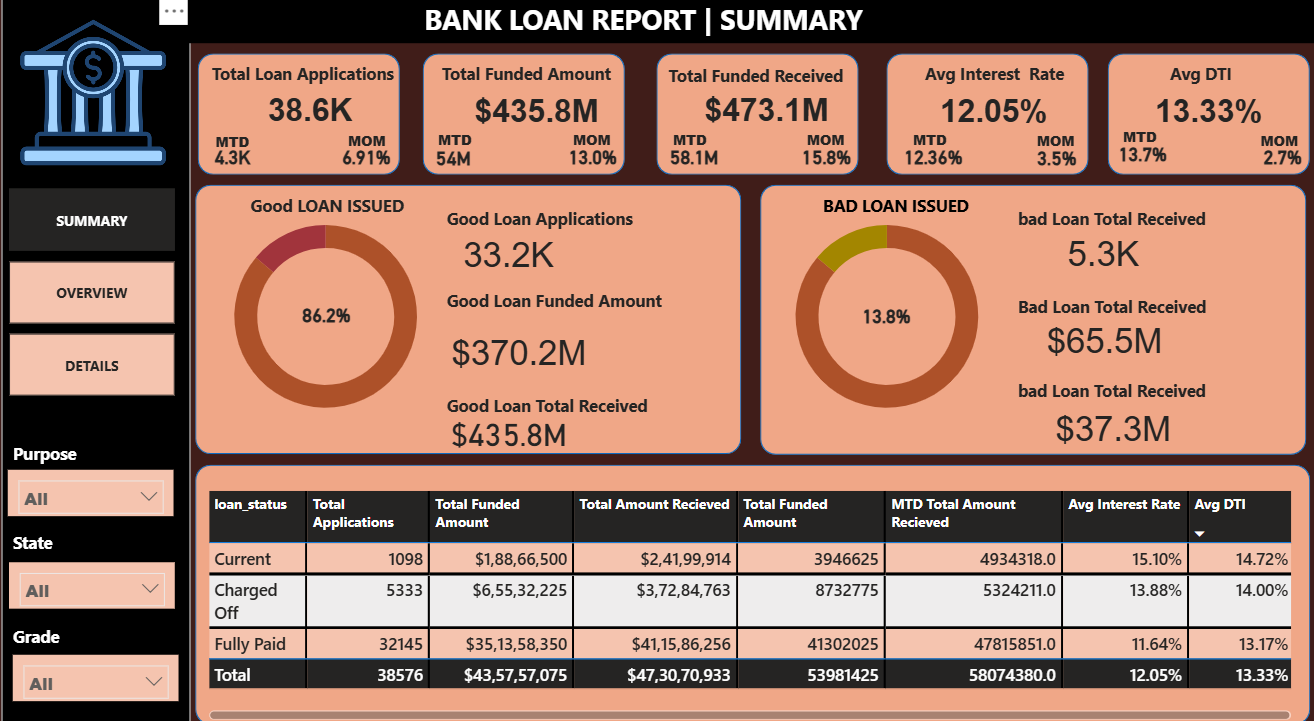

The page's visual inventory and layout, read from the dashboard file:
{"tool":"powerbi","page":{"name":"SUMMARY","canvas":[1280,720],"ordinal":0},"visuals":[{"type":"shape","box":[2.4,3.6,182.2,716.6],"z":0},{"type":"shape","box":[182.2,0,1097.9,50.7],"z":1000},{"type":"shape","box":[856.2,60,195,117],"z":1000,"group":"g5"},{"type":"shape","box":[1070.3,60,195,117],"z":2000,"group":"g2"},{"type":"shape","box":[189.4,457.2,1076.1,250.9],"z":2000},{"type":"shape","box":[633.9,60.3,195,117],"z":3000,"group":"g4"},{"type":"shape","box":[734.7,187,527,260.6],"z":3000},{"type":"shape","box":[408.9,60,195,117],"z":4000,"group":"g3"},{"type":"shape","box":[189.4,187,527,260],"z":4000},{"type":"shape","box":[192.1,60,195,117],"z":5000,"group":"g1"},{"type":"donutChart","fields":{"Y":["financial_loan (1) (1).Total Applications"],"Category":["financial_loan (1) (1).god_bad"]},"box":[190.6,199.1,249.7,230.4],"z":5000},{"type":"card","fields":{"Values":["financial_loan (1) (1).Good_loan%"]},"box":[281.1,295.6,70,36.2],"z":6000},{"type":"card","fields":{"Values":["financial_loan (1) (1).bad%"]},"box":[819.2,290.8,74.8,47.1],"z":7000},{"type":"card","fields":{"Values":["financial_loan (1) (1).Good_count"]},"box":[429.5,229.2,124.9,49.4],"z":8000},{"type":"card","fields":{"Values":["financial_loan (1) (1).Total Funded Amount"]},"box":[429.5,401.7,125.5,49.5],"z":9000},{"type":"card","fields":{"Values":["financial_loan (1) (1).TFAG"]},"box":[430.7,313.7,142.4,70],"z":10000},{"type":"textbox","box":[426.8,204.5,196.2,38.4],"z":11000},{"type":"textbox","box":[426.8,282.7,220.9,41.2],"z":12000},{"type":"textbox","box":[426.8,384.2,212.7,38.4],"z":13000},{"type":"card","title":"Total Loan Applications","fields":{"Values":["financial_loan (1) (1).Total Applications"]},"box":[230.5,96.5,140,35.7],"z":14000,"group":"g1"},{"type":"card","fields":{"Values":["financial_loan (1) (1).BAD loan"]},"box":[1012.2,396.9,126.7,49.5],"z":14000},{"type":"card","fields":{"Values":["financial_loan (1) (1).Total Funded Amount"]},"box":[448.8,96.8,140,35],"z":15000,"group":"g3"},{"type":"card","fields":{"Values":["financial_loan (1) (1).bad_loan applications"]},"box":[1005.8,233.3,119.4,39.8],"z":15000},{"type":"card","fields":{"Values":["financial_loan (1) (1).SUM"]},"box":[670.3,96.8,140,35],"z":16000,"group":"g4"},{"type":"card","fields":{"Values":["financial_loan (1) (1).bad_loan_rec"]},"box":[1005,313.7,124.3,45.8],"z":16000},{"type":"textbox","box":[978.4,369.1,212.7,38.4],"z":17000},{"type":"card","fields":{"Values":["financial_loan (1) (1).avg_int"]},"box":[889.8,96.8,140,35],"z":18000,"group":"g5"},{"type":"textbox","box":[978.4,288.2,212.7,38.4],"z":18000},{"type":"card","fields":{"Values":["financial_loan (1) (1).avg_dti"]},"box":[1098.6,96.8,140,35],"z":19000,"group":"g2"},{"type":"textbox","box":[978.4,204.5,212.7,38.4],"z":19000},{"type":"textbox","box":[405.4,3.6,454.8,47.1],"z":20000},{"type":"textbox","box":[200.3,63.9,199.1,32.6],"z":20000,"group":"g1"},{"type":"group","id":"g1","title":"Group 1","box":[192.1,60,207.2,117],"z":21000},{"type":"group","id":"g2","title":"Group 2","box":[1070.3,60,199,117],"z":22000},{"type":"group","id":"g3","title":"Group 5","box":[408.9,60,644.3,117.3],"z":23000},{"type":"donutChart","fields":{"Category":["financial_loan (1) (1).god_bad"],"Y":["financial_loan (1) (1).Total Applications"]},"box":[732.3,199.1,249.7,230.4],"z":24000},{"type":"textbox","box":[422.2,63.9,194.2,32.6],"z":25000,"group":"g3"},{"type":"tableEx","fields":{"Values":["financial_loan (1) (1).loan_status","financial_loan (1) (1).Total Applications","financial_loan (1) (1).Total Funded Amount","financial_loan (1) (1).SUM","financial_loan (1) (1).TFA","financial_loan (1) (1).TTL","financial_loan (1) (1).avg_int","financial_loan (1) (1).avg_dti"]},"box":[196.6,477.8,1055.6,230.4],"z":25000},{"type":"image","box":[13.3,22.9,155.6,150.8],"z":26000},{"type":"textbox","box":[634.5,65.1,189.4,42.2],"z":26000,"group":"g4"},{"type":"textbox","box":[866.2,63.9,187,32.6],"z":27000,"group":"g5"},{"type":"slicer","fields":{"Values":["financial_loan (1) (1).address_state"]},"box":[9.7,551.1,160,45],"z":27000},{"type":"textbox","box":[1099,63.9,121.9,32.6],"z":28000,"group":"g2"},{"type":"textbox","box":[8.4,516.4,71.2,35],"z":28000},{"type":"slicer","fields":{"Values":["financial_loan (1) (1).grade"]},"box":[13.3,640.6,160,45],"z":29000},{"type":"textbox","box":[8.4,606.8,74.8,33.8],"z":30000},{"type":"slicer","fields":{"Values":["financial_loan (1) (1).purpose"]},"box":[8.2,461.6,160,45],"z":31000},{"type":"textbox","box":[8.4,430.7,95.3,35],"z":32000},{"type":"textbox","box":[218.4,190.6,196.6,38.6],"z":33000},{"type":"textbox","box":[767.3,190.6,196.6,38.6],"z":34000},{"type":"pageNavigator","box":[10.1,190.6,160,200],"z":35000},{"type":"card","fields":{"Values":["financial_loan (1) (1).currant_mtd."]},"box":[196.2,145.4,60.4,30.2],"z":41000,"group":"g1"},{"type":"card","fields":{"Values":["financial_loan (1) (1).mom"]},"box":[325.2,145.4,60.4,30.2],"z":42000,"group":"g1"},{"type":"textbox","box":[204.4,131.7,49.4,30.2],"z":43000,"group":"g1"},{"type":"textbox","box":[332.1,130.3,49.4,30.2],"z":44000,"group":"g1"},{"type":"card","fields":{"Values":["financial_loan (1) (1).TFA"]},"box":[408.9,146.8,59,26.1],"z":45000,"group":"g3"},{"type":"card","fields":{"Values":["financial_loan (1) (1).mom_3"]},"box":[543.4,145.4,60.4,30.2],"z":46000,"group":"g3"},{"type":"textbox","box":[418.5,128.9,49.4,30.2],"z":47000,"group":"g3"},{"type":"textbox","box":[548.9,128.9,49.4,30.2],"z":48000,"group":"g3"},{"type":"card","fields":{"Values":["financial_loan (1) (1).TTL"]},"box":[639.4,145.4,60.4,30.2],"z":49000,"group":"g4"},{"type":"card","fields":{"Values":["financial_loan (1) (1).MOM_4"]},"box":[768.4,145.4,60.4,30.2],"z":50000,"group":"g4"},{"type":"textbox","box":[644.9,128.9,49.4,30.2],"z":51000,"group":"g4"},{"type":"textbox","box":[773.9,128.9,49.4,30.2],"z":52000,"group":"g4"},{"type":"card","fields":{"Values":["financial_loan (1) (1).avd_mtd"]},"box":[867.2,145.4,68.6,30.2],"z":53000,"group":"g5"},{"type":"card","fields":{"Values":["financial_loan (1) (1).avd_mom"]},"box":[990.7,146.8,59,30.2],"z":54000,"group":"g5"},{"type":"card","fields":{"Values":["financial_loan (1) (1).dti_mtd"]},"box":[1074.4,141.3,60.4,34.3],"z":55000,"group":"g2"},{"type":"card","fields":{"Values":["financial_loan (1) (1).dti_mom"]},"box":[1208.9,145.4,60.4,30.2],"z":56000,"group":"g2"},{"type":"textbox","box":[996.2,130.3,49.4,30.2],"z":57000,"group":"g5"},{"type":"textbox","box":[876.8,128.9,49.4,30.2],"z":58000,"group":"g5"},{"type":"textbox","box":[1213,130.3,49.4,30.2],"z":59000,"group":"g2"},{"type":"textbox","box":[1079.9,126.2,49.4,30.2],"z":60000,"group":"g2"},{"type":"group","id":"g4","title":"Group 3","box":[633.9,60.3,195,117],"z":62003,"group":"g5"},{"type":"group","id":"g5","title":"Group 4","box":[633.9,60,419.3,117.3],"z":62004,"group":"g3"}]}

Visuals, with their boxes on the page's 1280x720 design canvas (x1, y1, x2, y2). These are canvas units, not pixel positions in the 1314x721 screenshot, which may show the page scaled, cropped or inside an application window:
shape: pyautogui.locateOnScreen(2, 4, 185, 720)
shape: pyautogui.locateOnScreen(182, 0, 1280, 51)
shape: pyautogui.locateOnScreen(856, 60, 1051, 177)
shape: pyautogui.locateOnScreen(1070, 60, 1265, 177)
shape: pyautogui.locateOnScreen(189, 457, 1266, 708)
shape: pyautogui.locateOnScreen(634, 60, 829, 177)
shape: pyautogui.locateOnScreen(735, 187, 1262, 448)
shape: pyautogui.locateOnScreen(409, 60, 604, 177)
shape: pyautogui.locateOnScreen(189, 187, 716, 447)
shape: pyautogui.locateOnScreen(192, 60, 387, 177)
donutChart - financial_loan (1) (1).Total Applications x financial_loan (1) (1).god_bad: pyautogui.locateOnScreen(191, 199, 440, 430)
card - financial_loan (1) (1).Good_loan%: pyautogui.locateOnScreen(281, 296, 351, 332)
card - financial_loan (1) (1).bad%: pyautogui.locateOnScreen(819, 291, 894, 338)
card - financial_loan (1) (1).Good_count: pyautogui.locateOnScreen(430, 229, 554, 279)
card - financial_loan (1) (1).Total Funded Amount: pyautogui.locateOnScreen(430, 402, 555, 451)
card - financial_loan (1) (1).TFAG: pyautogui.locateOnScreen(431, 314, 573, 384)
textbox: pyautogui.locateOnScreen(427, 204, 623, 243)
textbox: pyautogui.locateOnScreen(427, 283, 648, 324)
textbox: pyautogui.locateOnScreen(427, 384, 640, 423)
"Total Loan Applications" card: pyautogui.locateOnScreen(230, 96, 370, 132)
card - financial_loan (1) (1).BAD loan: pyautogui.locateOnScreen(1012, 397, 1139, 446)
card - financial_loan (1) (1).Total Funded Amount: pyautogui.locateOnScreen(449, 97, 589, 132)
card - financial_loan (1) (1).bad_loan applications: pyautogui.locateOnScreen(1006, 233, 1125, 273)
card - financial_loan (1) (1).SUM: pyautogui.locateOnScreen(670, 97, 810, 132)
card - financial_loan (1) (1).bad_loan_rec: pyautogui.locateOnScreen(1005, 314, 1129, 360)
textbox: pyautogui.locateOnScreen(978, 369, 1191, 408)
card - financial_loan (1) (1).avg_int: pyautogui.locateOnScreen(890, 97, 1030, 132)
textbox: pyautogui.locateOnScreen(978, 288, 1191, 327)
card - financial_loan (1) (1).avg_dti: pyautogui.locateOnScreen(1099, 97, 1239, 132)
textbox: pyautogui.locateOnScreen(978, 204, 1191, 243)
textbox: pyautogui.locateOnScreen(405, 4, 860, 51)
textbox: pyautogui.locateOnScreen(200, 64, 399, 96)
"Group 1" group: pyautogui.locateOnScreen(192, 60, 399, 177)
"Group 2" group: pyautogui.locateOnScreen(1070, 60, 1269, 177)
"Group 5" group: pyautogui.locateOnScreen(409, 60, 1053, 177)
donutChart - financial_loan (1) (1).god_bad x financial_loan (1) (1).Total Applications: pyautogui.locateOnScreen(732, 199, 982, 430)
textbox: pyautogui.locateOnScreen(422, 64, 616, 96)
tableEx - financial_loan (1) (1).loan_status x financial_loan (1) (1).Total Applications: pyautogui.locateOnScreen(197, 478, 1252, 708)
image: pyautogui.locateOnScreen(13, 23, 169, 174)
textbox: pyautogui.locateOnScreen(634, 65, 824, 107)
textbox: pyautogui.locateOnScreen(866, 64, 1053, 96)
slicer - financial_loan (1) (1).address_state: pyautogui.locateOnScreen(10, 551, 170, 596)
textbox: pyautogui.locateOnScreen(1099, 64, 1221, 96)
textbox: pyautogui.locateOnScreen(8, 516, 80, 551)
slicer - financial_loan (1) (1).grade: pyautogui.locateOnScreen(13, 641, 173, 686)
textbox: pyautogui.locateOnScreen(8, 607, 83, 641)
slicer - financial_loan (1) (1).purpose: pyautogui.locateOnScreen(8, 462, 168, 507)
textbox: pyautogui.locateOnScreen(8, 431, 104, 466)
textbox: pyautogui.locateOnScreen(218, 191, 415, 229)
textbox: pyautogui.locateOnScreen(767, 191, 964, 229)
pageNavigator: pyautogui.locateOnScreen(10, 191, 170, 391)
card - financial_loan (1) (1).currant_mtd.: pyautogui.locateOnScreen(196, 145, 257, 176)
card - financial_loan (1) (1).mom: pyautogui.locateOnScreen(325, 145, 386, 176)
textbox: pyautogui.locateOnScreen(204, 132, 254, 162)
textbox: pyautogui.locateOnScreen(332, 130, 382, 160)
card - financial_loan (1) (1).TFA: pyautogui.locateOnScreen(409, 147, 468, 173)
card - financial_loan (1) (1).mom_3: pyautogui.locateOnScreen(543, 145, 604, 176)
textbox: pyautogui.locateOnScreen(418, 129, 468, 159)
textbox: pyautogui.locateOnScreen(549, 129, 598, 159)
card - financial_loan (1) (1).TTL: pyautogui.locateOnScreen(639, 145, 700, 176)
card - financial_loan (1) (1).MOM_4: pyautogui.locateOnScreen(768, 145, 829, 176)
textbox: pyautogui.locateOnScreen(645, 129, 694, 159)
textbox: pyautogui.locateOnScreen(774, 129, 823, 159)
card - financial_loan (1) (1).avd_mtd: pyautogui.locateOnScreen(867, 145, 936, 176)
card - financial_loan (1) (1).avd_mom: pyautogui.locateOnScreen(991, 147, 1050, 177)
card - financial_loan (1) (1).dti_mtd: pyautogui.locateOnScreen(1074, 141, 1135, 176)
card - financial_loan (1) (1).dti_mom: pyautogui.locateOnScreen(1209, 145, 1269, 176)
textbox: pyautogui.locateOnScreen(996, 130, 1046, 160)
textbox: pyautogui.locateOnScreen(877, 129, 926, 159)
textbox: pyautogui.locateOnScreen(1213, 130, 1262, 160)
textbox: pyautogui.locateOnScreen(1080, 126, 1129, 156)
"Group 3" group: pyautogui.locateOnScreen(634, 60, 829, 177)
"Group 4" group: pyautogui.locateOnScreen(634, 60, 1053, 177)
